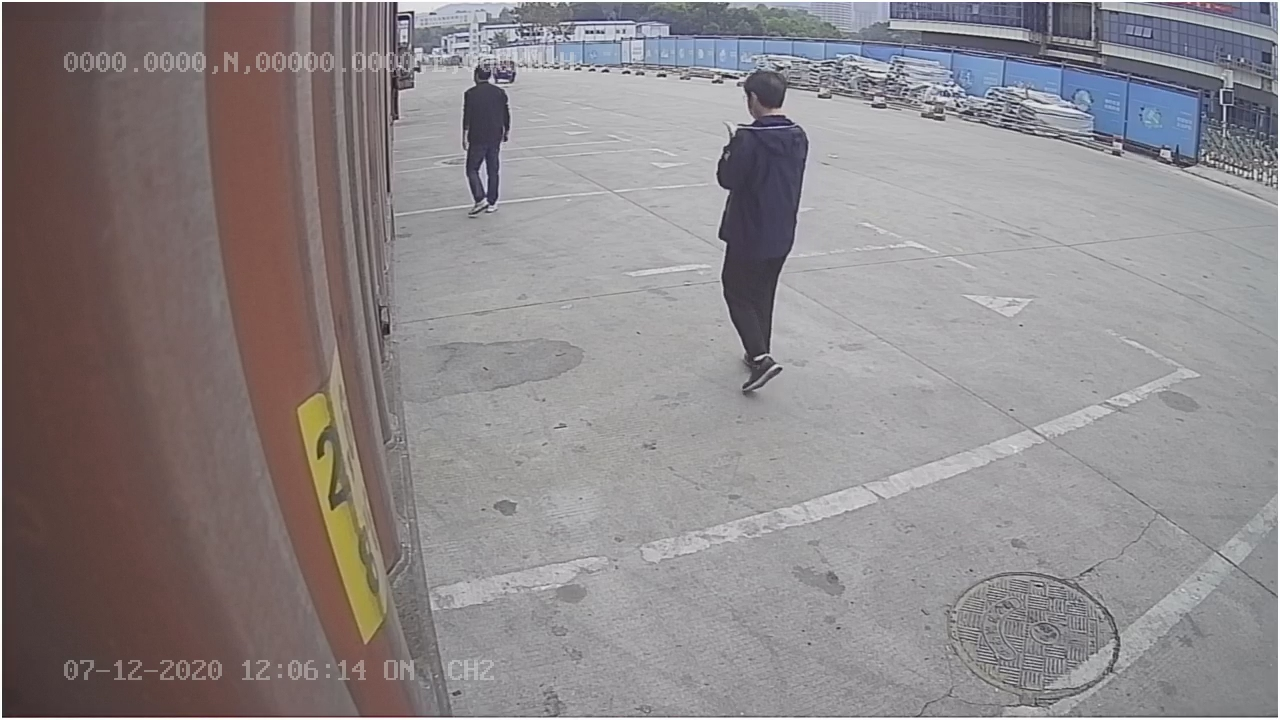person: (713, 62, 810, 395)
